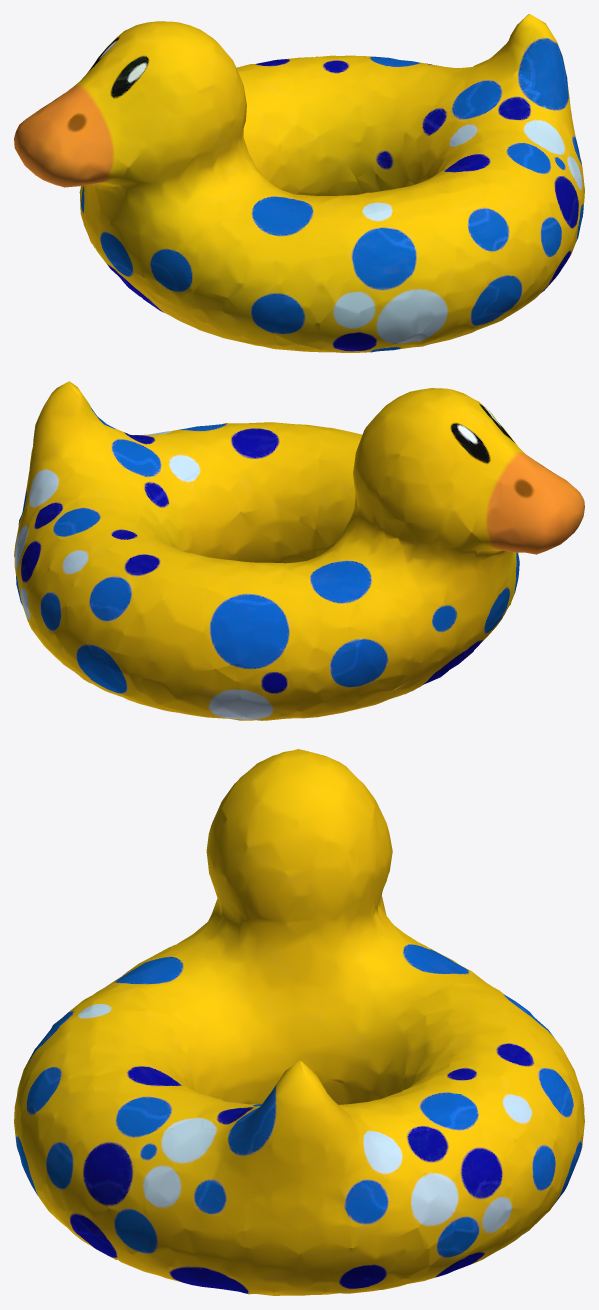
The picture shows the model from 3 angles, top to bottom: view 1: azimuth 30°, elevation 25°; view 2: azimuth 150°, elevation 25°; view 3: azimuth 270°, elevation 25°; orthographic projection. The views are drawn at different scales.
Parts seen in each view (by area): view 1: pMesh1; view 2: pMesh1; view 3: pMesh1.
Boxes of the visible parts, x1,y1,x2,y2 form: pMesh1: (14,14,584,352); pMesh1: (14,381,584,720); pMesh1: (14,749,584,1295).
Bounding box in the file's own units: 1.86 × 0.9738 × 1.46.
Materials: 1 (1 with a texture image).
